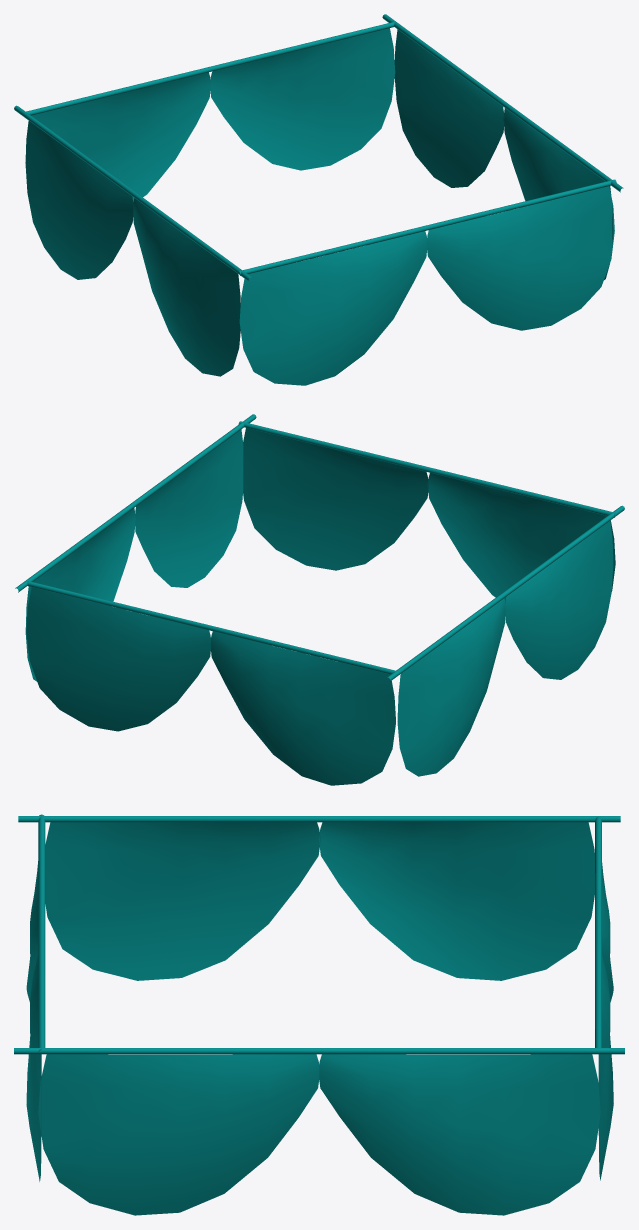
The model's file is SM_ENV_LKNVLD_Event_HL_Noren_A.gltf.
The picture shows the model from 3 angles, top to bottom: view 1: azimuth 30°, elevation 25°; view 2: azimuth 150°, elevation 25°; view 3: azimuth 270°, elevation 25°; orthographic projection. The views are drawn at different scales.
Visible parts, largest first — view 1: SM_ENV_LKNVLD_Event_HL_Noren_A; view 2: SM_ENV_LKNVLD_Event_HL_Noren_A; view 3: SM_ENV_LKNVLD_Event_HL_Noren_A.
Boxes of the visible parts, x1,y1,x2,y2 form: SM_ENV_LKNVLD_Event_HL_Noren_A: [14, 14, 623, 385]; SM_ENV_LKNVLD_Event_HL_Noren_A: [15, 414, 624, 785]; SM_ENV_LKNVLD_Event_HL_Noren_A: [14, 814, 624, 1215].
Bounding box in the file's own units: 2.87 × 0.9079 × 3.03.
